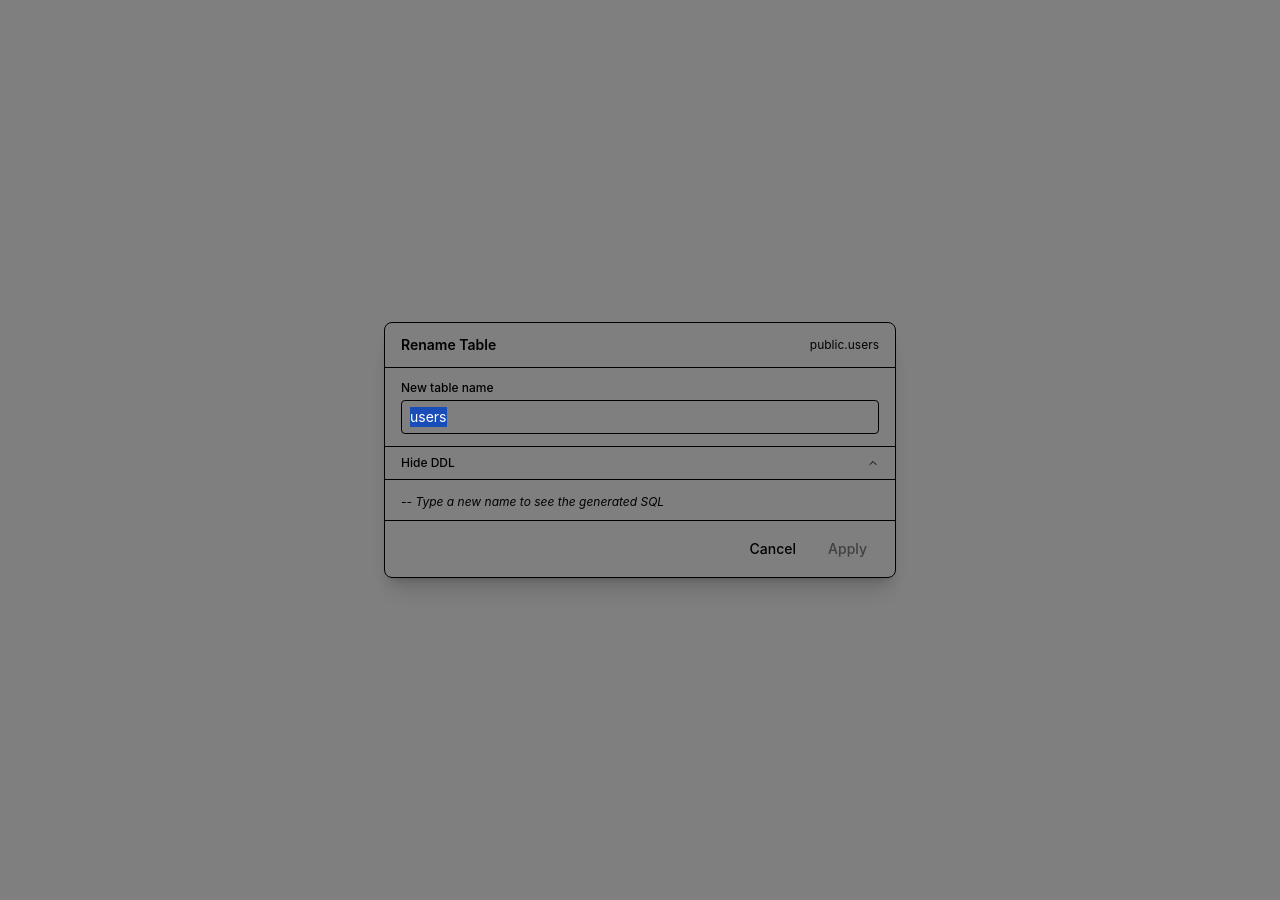
Test case: RenameTableDialog (Sprint 235) › [AC-235-04][AC-235-09] invalid identifier shows inline error + keeps Apply disabled
Replace the text in the field labelled "New table name" with "bad name" at [640, 417], box [401, 400, 879, 434]
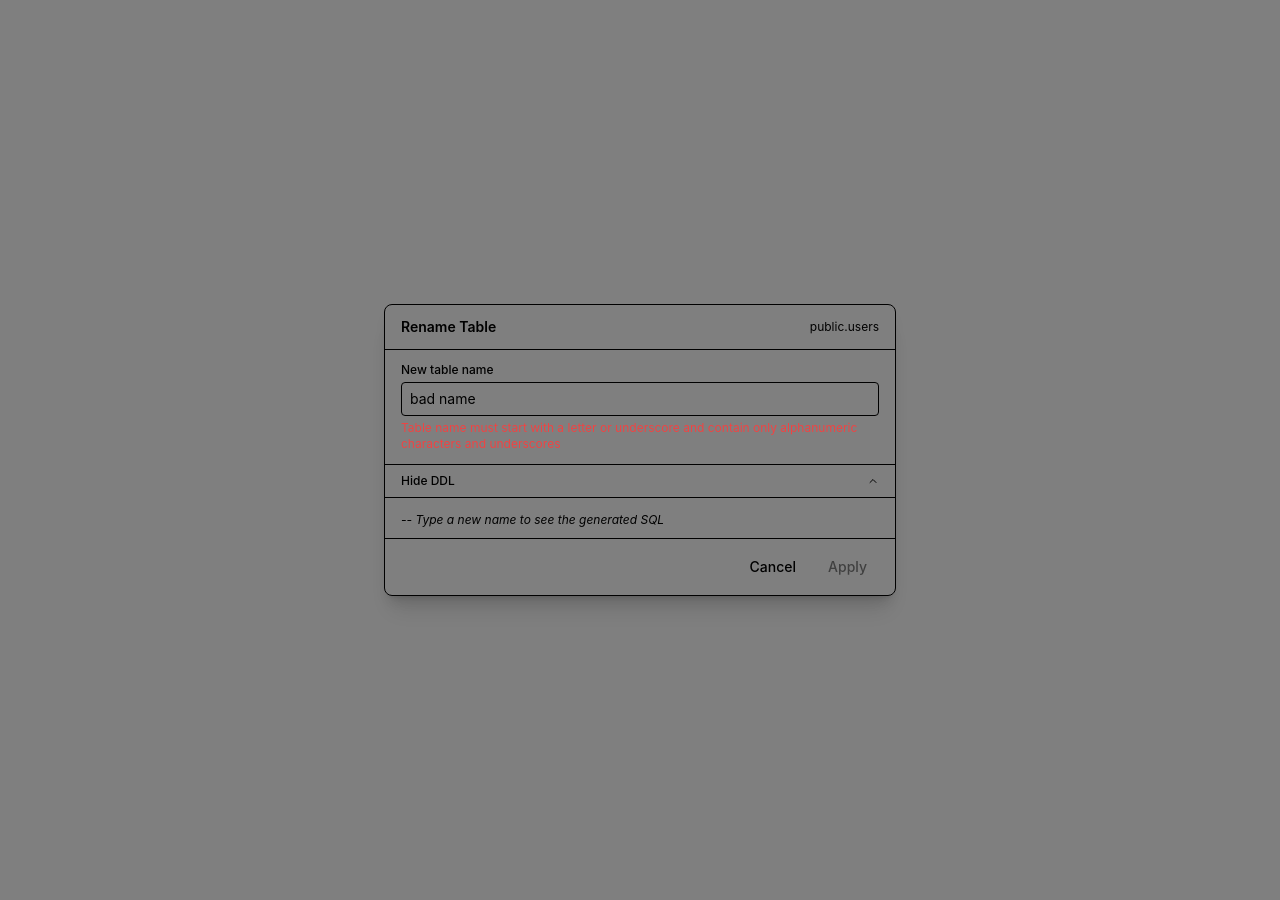
Expected: the button "Apply" is disabled, [816, 551, 879, 583]
Expected: the message named "Identifier validation error" shows "letter or underscore", [401, 420, 857, 451]
